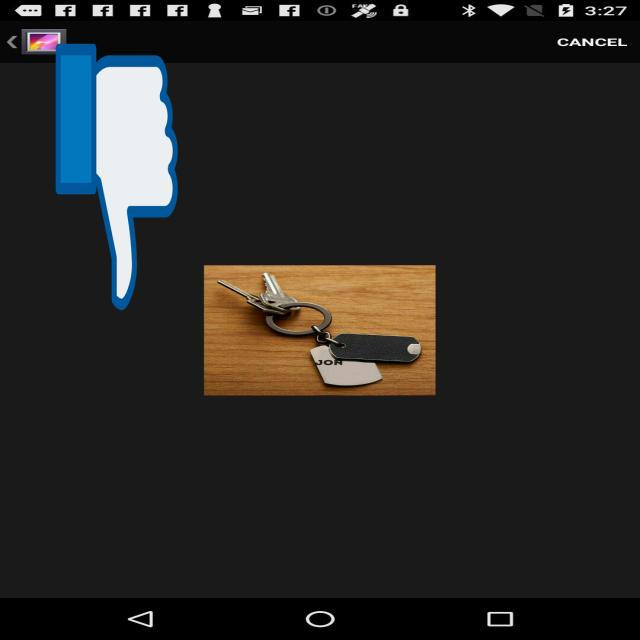obstruction: (56, 38, 178, 316)
